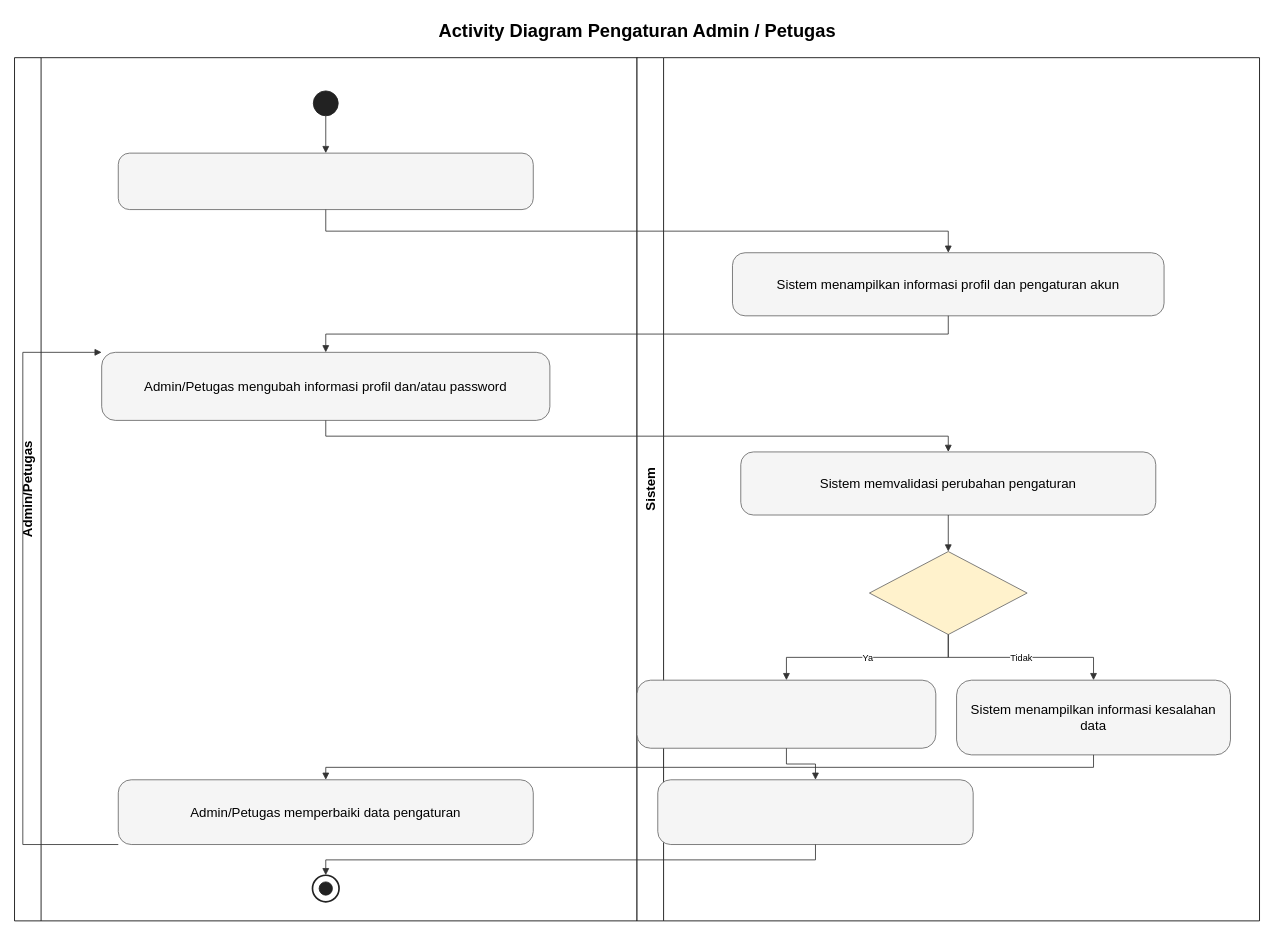
This 1274x935 diagram has some shape labels left out. Here are the shapes that lost their labels. From the top down, the box of each, then its label:
(117, 152, 533, 210): Admin/Petugas membuka halaman Pengaturan
(869, 551, 1027, 635): Data pengaturan valid?
(636, 679, 936, 748): Sistem menyimpan perubahan ke dalam basis data
(657, 779, 973, 845): Sistem menampilkan notifikasi perubahan berhasil disimpan
